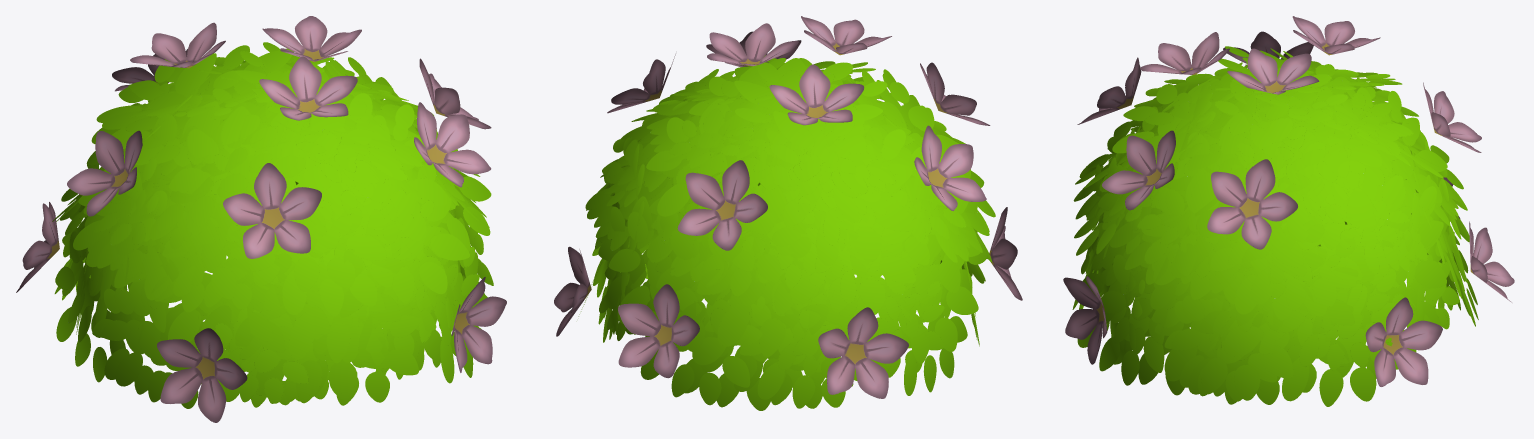
Rendered from q_bush_small_flowers.fbx.
The picture shows the model from 3 angles, left to right: view 1: azimuth 30°, elevation 25°; view 2: azimuth 150°, elevation 25°; view 3: azimuth 270°, elevation 25°; orthographic projection. The views are drawn at different scales.
Parts seen in each view (by area): view 1: q_bush_small_flowers; view 2: q_bush_small_flowers; view 3: q_bush_small_flowers.
Part boxes in pixels (<box>): q_bush_small_flowers: <box>16,16,506,422</box>; q_bush_small_flowers: <box>554,16,1022,410</box>; q_bush_small_flowers: <box>1063,16,1514,406</box>.
Bounding box in the file's own units: 1.44 × 1 × 1.46.
Materials: 2 (2 with a texture image).
